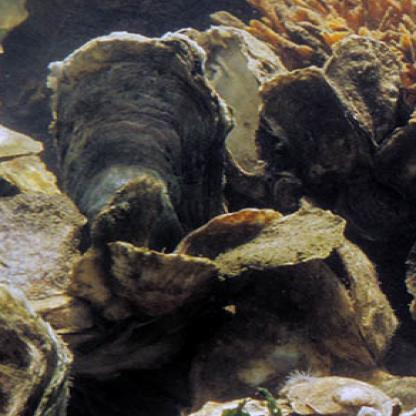3: (302, 238, 398, 368), (0, 282, 71, 416), (331, 175, 407, 246)
Oyster-Closed: (52, 30, 235, 245), (181, 26, 285, 173), (261, 63, 358, 175), (207, 210, 348, 277), (110, 239, 223, 317), (172, 211, 285, 256), (372, 107, 416, 194), (0, 125, 46, 158)
Oyster-Open: (196, 312, 332, 412), (0, 190, 88, 302), (323, 38, 398, 145), (0, 153, 59, 192)
